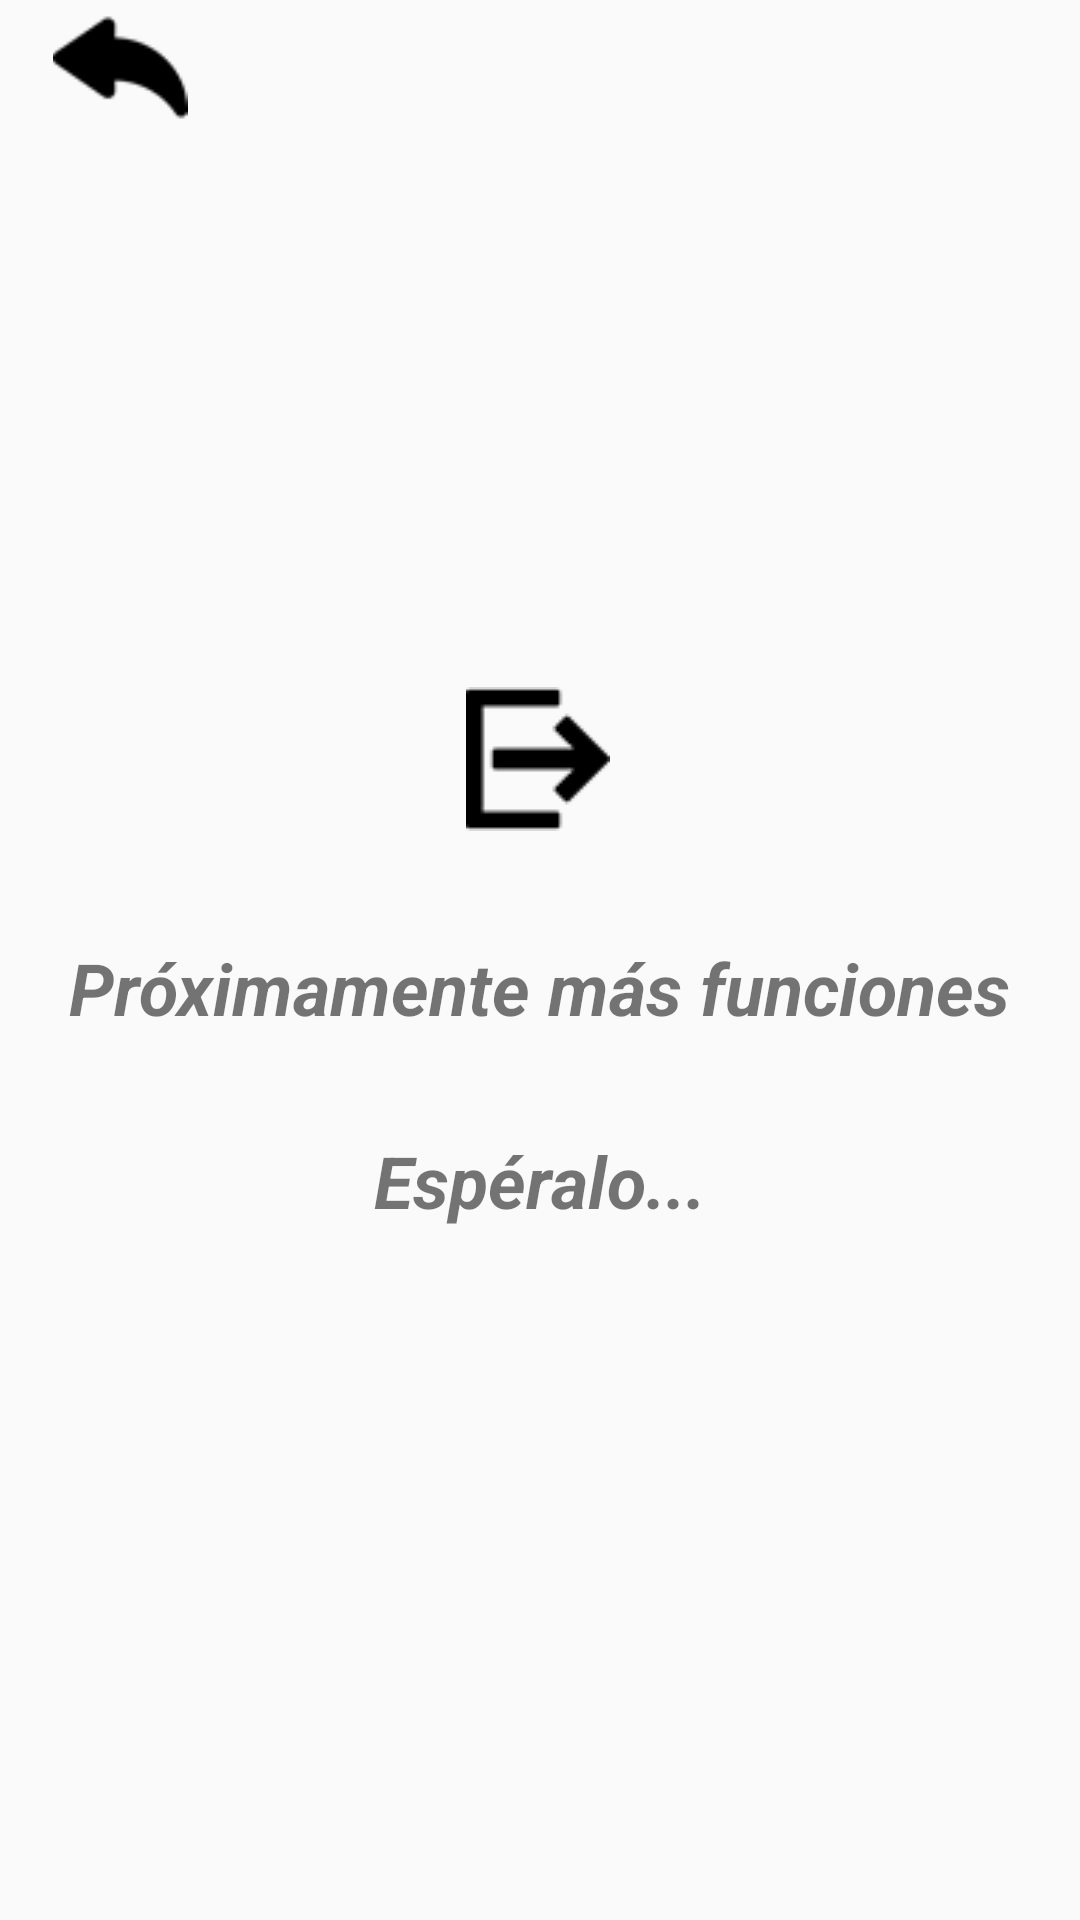

Icons on this 1080x1920 Android screen, each with its box as (x1, y1, x2, y2):
back: (53, 16, 188, 119)
